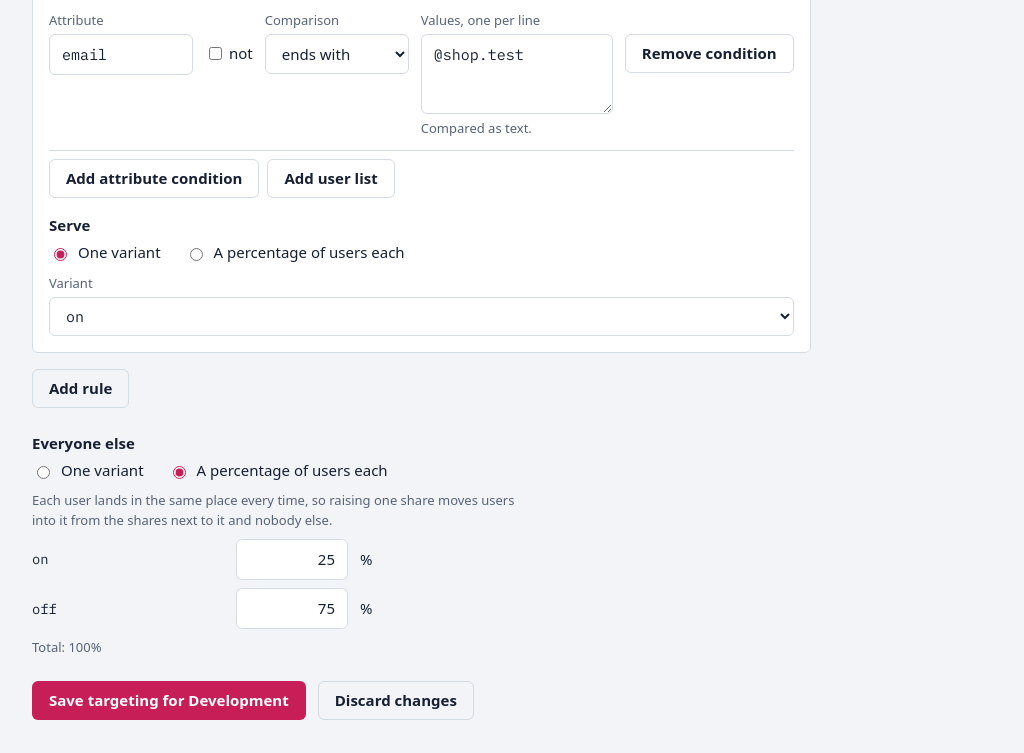
Test: editing targeting › shows why the API refused the targeting
The image size is (1024, 753).
(page scrolled)
Click the button "Save targeting for Development".
click(169, 701)  # box [32,681,306,720]
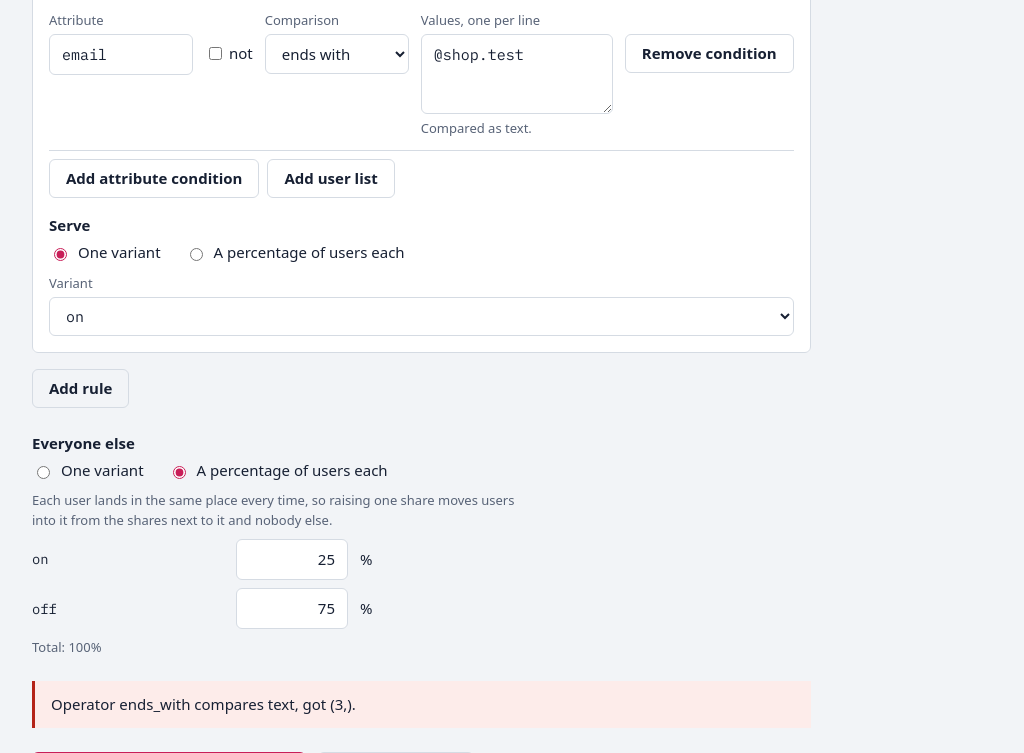
Expected: the message reads "Operator ends_with compares text, got (3,).", [51,694,356,714]
